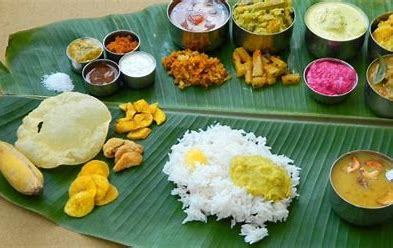inorganic: (5, 13, 386, 239), (181, 133, 277, 218), (25, 104, 102, 140), (73, 168, 119, 205), (237, 46, 277, 84), (116, 105, 168, 130), (106, 139, 144, 169), (177, 56, 216, 85), (346, 162, 380, 191), (5, 152, 32, 182), (244, 6, 283, 24), (182, 6, 217, 25), (321, 12, 351, 34), (314, 66, 345, 85), (374, 64, 393, 89), (48, 72, 73, 87), (382, 25, 393, 43), (77, 43, 92, 56), (129, 59, 146, 70), (117, 37, 127, 53), (95, 68, 112, 77)
organic: (332, 150, 378, 227), (163, 13, 228, 43), (303, 75, 362, 101), (304, 30, 361, 54), (118, 57, 161, 85), (103, 23, 141, 53), (235, 22, 290, 42), (367, 64, 386, 115), (80, 63, 113, 88), (64, 34, 97, 56), (369, 16, 385, 50)
